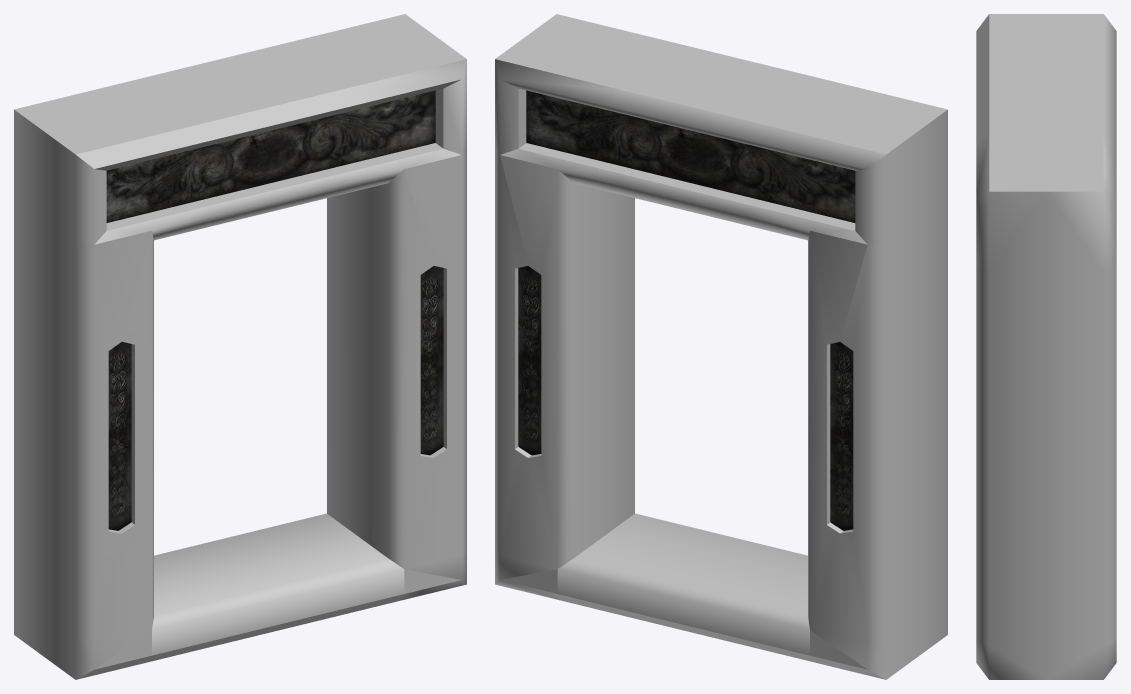
Rendered from door_frame.dae.
3 views of the same model, side by side, from view 1: azimuth 30°, elevation 25°; view 2: azimuth 150°, elevation 25°; view 3: azimuth 270°, elevation 25° (orthographic). The views are drawn at different scales.
Visible parts, largest first — view 1: polySurface130, polySurface136, polySurface135; view 2: polySurface130, polySurface136, polySurface135; view 3: polySurface130.
Part boxes in pixels (x1=…): polySurface130: x1=14, y1=14, x2=466, y2=679; polySurface136: x1=106, y1=90, x2=435, y2=222; polySurface135: x1=108, y1=266, x2=443, y2=530; polySurface130: x1=495, y1=14, x2=947, y2=679; polySurface136: x1=526, y1=90, x2=855, y2=222; polySurface135: x1=518, y1=266, x2=853, y2=530; polySurface130: x1=976, y1=14, x2=1116, y2=679.
Size of what is drawn, in the model's own units: 300 by 385 by 100.
